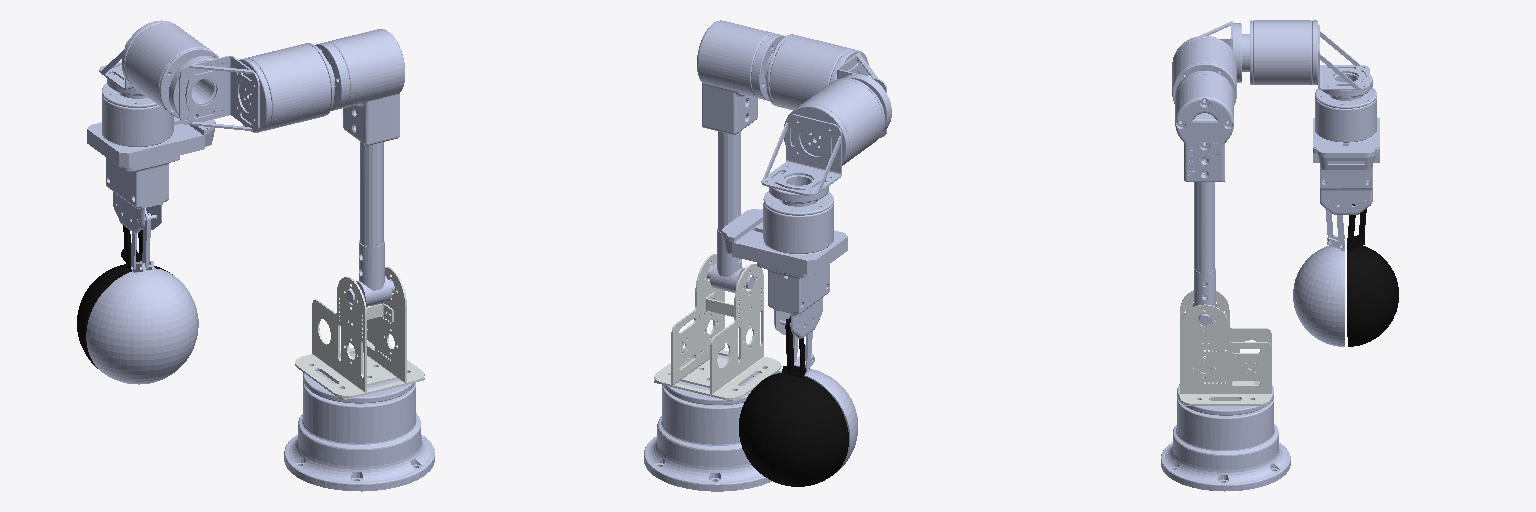
robot.urdf — sampling_rover_with_arm_urdf:
<?xml version="1.0" encoding="utf-8"?>
<!-- This URDF was automatically created by SolidWorks to URDF Exporter! Originally created by [author] ([email redacted]) 
     Commit Version: 1.6.0-4-g7f85cfe  Build Version: 1.6.7995.38578
     For more information, please see http://wiki.ros.org/sw_urdf_exporter -->
<robot
  name="sampling_rover_with_arm_urdf">
  <link name="world"/>
  <joint name="base_rover" type="fixed">
      <parent link="world"/>
      <child link="rover"/>
      <origin rpy="0 0 0" xyz="0.0 0.0 0.00001"/>
  </joint>
  <link
    name="rover">
    <inertial>
      <origin
        xyz="0.04233 -0.030066 0.22201"
        rpy="0 0 0" />
      <mass
        value="23.83" />
      <inertia
        ixx="0.13598"
        ixy="0.0004091"
        ixz="0.0022915"
        iyy="0.10672"
        iyz="-0.0028185"
        izz="0.14333" />
    </inertial>
    <visual>
      <origin
        xyz="0 0 0"
        rpy="0 0 0" />
      <geometry>
        <mesh
          filename="package://sampling_rover_with_arm_urdf/meshes/rover.STL" />
      </geometry>
      <material
        name="">
        <color
          rgba="0.79216 0.81961 0.93333 1" />
      </material>
    </visual>
    <collision>
      <origin
        xyz="0 0 0"
        rpy="0 0 0" />
      <geometry>
        <mesh
          filename="package://sampling_rover_with_arm_urdf/meshes/rover.STL" />
      </geometry>
    </collision>
  </link>
  <link
    name="base_arm">
    <inertial>
      <origin
        xyz="7.5146E-16 1.2768E-15 0.062877"
        rpy="0 0 0" />
      <mass
        value="2.1128" />
      <inertia
        ixx="0.0074591"
        ixy="-6.4985E-07"
        ixz="2.9585E-17"
        iyy="0.0074553"
        iyz="-7.5664E-18"
        izz="0.010214" />
    </inertial>
    <visual>
      <origin
        xyz="0 0 0"
        rpy="0 0 0" />
      <geometry>
        <mesh
          filename="package://sampling_rover_with_arm_urdf/meshes/base_arm.STL" />
      </geometry>
      <material
        name="">
        <color
          rgba="0.79216 0.81961 0.93333 1" />
      </material>
    </visual>
    <collision>
      <origin
        xyz="0 0 0"
        rpy="0 0 0" />
      <geometry>
        <mesh
          filename="package://sampling_rover_with_arm_urdf/meshes/base_arm.STL" />
      </geometry>
    </collision>
  </link>
  <joint
    name="base_joint"
    type="fixed">
    <origin
      xyz="-0.00070858 0.2487 0.409"
      rpy="0 0 0" />
    <parent
      link="rover" />
    <child
      link="base_arm" />
    <axis
      xyz="0 0 0" />
    <limit
      lower="0"
      upper="0"
      effort="0"
      velocity="0" />
  </joint>
  <link
    name="link_1">
    <inertial>
      <origin
        xyz="0.00064135 -0.0059228 0.051415"
        rpy="0 0 0" />
      <mass
        value="0.49072" />
      <inertia
        ixx="0.001755"
        ixy="3.1435E-07"
        ixz="-7.1879E-07"
        iyy="0.0010881"
        iyz="0.00019759"
        izz="0.001162" />
    </inertial>
    <visual>
      <origin
        xyz="0 0 0"
        rpy="0 0 0" />
      <geometry>
        <mesh
          filename="package://sampling_rover_with_arm_urdf/meshes/link_1.STL" />
      </geometry>
      <material
        name="">
        <color
          rgba="0.89804 0.91765 0.92941 1" />
      </material>
    </visual>
    <collision>
      <origin
        xyz="0 0 0"
        rpy="0 0 0" />
      <geometry>
        <mesh
          filename="package://sampling_rover_with_arm_urdf/meshes/link_1.STL" />
      </geometry>
    </collision>
  </link>
  <joint
    name="joint_1"
    type="revolute">
    <origin
      xyz="0 0 0.131"
      rpy="0 0 0" />
    <parent
      link="base_arm" />
    <child
      link="link_1" />
    <axis
      xyz="0 0 1" />
    <limit
      lower="-3.142"
      upper="3.142"
      effort="100"
      velocity="2" />
  </joint>
  <link
    name="link_2">
    <inertial>
      <origin
        xyz="-3.148E-06 0.2843 0.0099169"
        rpy="0 0 0" />
      <mass
        value="1.1101" />
      <inertia
        ixx="0.0026516"
        ixy="-1.2212E-07"
        ixz="-1.1353E-07"
        iyy="0.0012227"
        iyz="-0.00020306"
        izz="0.0025953" />
    </inertial>
    <visual>
      <origin
        xyz="0 0 0"
        rpy="0 0 0" />
      <geometry>
        <mesh
          filename="package://sampling_rover_with_arm_urdf/meshes/link_2.STL" />
      </geometry>
      <material
        name="">
        <color
          rgba="0.79216 0.81961 0.93333 1" />
      </material>
    </visual>
    <collision>
      <origin
        xyz="0 0 0"
        rpy="0 0 0" />
      <geometry>
        <mesh
          filename="package://sampling_rover_with_arm_urdf/meshes/link_2.STL" />
      </geometry>
    </collision>
  </link>
  <joint
    name="joint_2"
    type="revolute">
    <origin
      xyz="0 -0.0355 0.1519"
      rpy="1.5708 0 -1.5708" />
    <parent
      link="link_1" />
    <child
      link="link_2" />
    <axis
      xyz="0 0 1" />
    <limit
      lower="-3.142"
      upper="3.142"
      effort="100"
      velocity="2" />
  </joint>
  <link
    name="link_3">
    <inertial>
      <origin
        xyz="2.2204E-16 0.0011125 -0.0037525"
        rpy="0 0 0" />
      <mass
        value="0.83444" />
      <inertia
        ixx="0.0013519"
        ixy="9.0993E-07"
        ixz="9.3162E-20"
        iyy="0.0013665"
        iyz="-1.2183E-05"
        izz="0.0015146" />
    </inertial>
    <visual>
      <origin
        xyz="0 0 0"
        rpy="0 0 0" />
      <geometry>
        <mesh
          filename="package://sampling_rover_with_arm_urdf/meshes/link_3.STL" />
      </geometry>
      <material
        name="">
        <color
          rgba="0.79216 0.81961 0.93333 1" />
      </material>
    </visual>
    <collision>
      <origin
        xyz="0 0 0"
        rpy="0 0 0" />
      <geometry>
        <mesh
          filename="package://sampling_rover_with_arm_urdf/meshes/link_3.STL" />
      </geometry>
    </collision>
  </link>
  <joint
    name="joint_3"
    type="revolute">
    <origin
      xyz="0 0.363 0.149"
      rpy="0 0 1.5708" />
    <parent
      link="link_2" />
    <child
      link="link_3" />
    <axis
      xyz="0 0 -1" />
    <limit
      lower="-3.142"
      upper="3.142"
      effort="50"
      velocity="4" />
  </joint>
  <link
    name="link_4">
    <inertial>
      <origin
        xyz="-0.0011125 -1.0547E-15 -0.0037525"
        rpy="0 0 0" />
      <mass
        value="0.83444" />
      <inertia
        ixx="0.0013665"
        ixy="-9.0993E-07"
        ixz="1.2183E-05"
        iyy="0.0013519"
        iyz="1.3053E-20"
        izz="0.0015146" />
    </inertial>
    <visual>
      <origin
        xyz="0 0 0"
        rpy="0 0 0" />
      <geometry>
        <mesh
          filename="package://sampling_rover_with_arm_urdf/meshes/link_4.STL" />
      </geometry>
      <material
        name="">
        <color
          rgba="0.79216 0.81961 0.93333 1" />
      </material>
    </visual>
    <collision>
      <origin
        xyz="0 0 0"
        rpy="0 0 0" />
      <geometry>
        <mesh
          filename="package://sampling_rover_with_arm_urdf/meshes/link_4.STL" />
      </geometry>
    </collision>
  </link>
  <joint
    name="joint_4"
    type="revolute">
    <origin
      xyz="0 0.13161 0.10761"
      rpy="-1.5708 0 0" />
    <parent
      link="link_3" />
    <child
      link="link_4" />
    <axis
      xyz="0 0 -1" />
    <limit
      lower="-3.142"
      upper="3.142"
      effort="50"
      velocity="4" />
  </joint>
  <link
    name="link_5">
    <inertial>
      <origin
        xyz="0.0056805 -0.00015103 -0.30906"
        rpy="0 0 0" />
      <mass
        value="1.0858" />
      <inertia
        ixx="0.001469"
        ixy="-1.5038E-06"
        ixz="7.5505E-06"
        iyy="0.0014597"
        iyz="-1.0158E-06"
        izz="0.002048" />
    </inertial>
    <visual>
      <origin
        xyz="0 0 0"
        rpy="0 0 0" />
      <geometry>
        <mesh
          filename="package://sampling_rover_with_arm_urdf/meshes/link_5.STL" />
      </geometry>
      <material
        name="">
        <color
          rgba="0.79216 0.81961 0.93333 1" />
      </material>
    </visual>
    <collision>
      <origin
        xyz="0 0 0"
        rpy="0 0 0" />
      <geometry>
        <mesh
          filename="package://sampling_rover_with_arm_urdf/meshes/link_5.STL" />
      </geometry>
    </collision>
  </link>
  <joint
    name="joint_5"
    type="revolute">
    <origin
      xyz="-0.45203 0 0.10768"
      rpy="-1.5708 0 1.5708" />
    <parent
      link="link_4" />
    <child
      link="link_5" />
    <axis
      xyz="0 0 -1" />
    <limit
      lower="-3.142"
      upper="3.142"
      effort="50"
      velocity="4" />
  </joint>
  <link
    name="Right_ee">
    <inertial>
      <origin
        xyz="0.011076 -0.16984 -0.00036022"
        rpy="0 0 0" />
      <mass
        value="0.15605" />
      <inertia
        ixx="0.0007532"
        ixy="1.5845E-05"
        ixz="-1.1744E-13"
        iyy="0.00044526"
        iyz="-2.7993E-13"
        izz="0.0004941" />
    </inertial>
    <visual>
      <origin
        xyz="0 0 0"
        rpy="0 0 0" />
      <geometry>
        <mesh
          filename="package://sampling_rover_with_arm_urdf/meshes/Right_ee.STL" />
      </geometry>
      <material
        name="">
        <color
          rgba="0.79216 0.81961 0.93333 1" />
      </material>
    </visual>
    <collision>
      <origin
        xyz="0 0 0"
        rpy="0 0 0" />
      <geometry>
        <mesh
          filename="package://sampling_rover_with_arm_urdf/meshes/Right_ee.STL" />
      </geometry>
    </collision>
  </link>
  <joint
    name="joint_ree"
    type="revolute">
    <origin
      xyz="0 0.03156 -0.18278"
      rpy="-1.5708 0 1.5708" />
    <parent
      link="link_5" />
    <child
      link="Right_ee" />
    <axis
      xyz="0 0 1" />
    <limit
      lower="0"
      upper="0.8"
      effort="15"
      velocity="0" />
  </joint>
  <link
    name="Left_ee">
    <inertial>
      <origin
        xyz="-0.011076 -0.16984 -0.00041022"
        rpy="0 0 0" />
      <mass
        value="0.15605" />
      <inertia
        ixx="0.0007532"
        ixy="-1.5845E-05"
        ixz="-1.1743E-13"
        iyy="0.00044526"
        iyz="2.7992E-13"
        izz="0.0004941" />
    </inertial>
    <visual>
      <origin
        xyz="0 0 0"
        rpy="0 0 0" />
      <geometry>
        <mesh
          filename="package://sampling_rover_with_arm_urdf/meshes/Left_ee.STL" />
      </geometry>
      <material
        name="">
        <color
          rgba="0.1098 0.1098 0.1098 1" />
      </material>
    </visual>
    <collision>
      <origin
        xyz="0 0 0"
        rpy="0 0 0" />
      <geometry>
        <mesh
          filename="package://sampling_rover_with_arm_urdf/meshes/Left_ee.STL" />
      </geometry>
    </collision>
  </link>
  <joint
    name="joint_lee"
    type="revolute">
    <origin
      xyz="0 -0.031415 -0.18278"
      rpy="-1.5708 0 1.5708" />
    <parent
      link="link_5" />
    <child
      link="Left_ee" />
    <axis
      xyz="0 0 1" />
    <limit
      lower="-0.8"
      upper="0"
      effort="15"
      velocity="6" />
    <mimic joint="joint_ree" multiplier="-1.0" offset="0.0"/>  
  </joint>
  

  <transmission name="link_1_trans">
        <type>transmission_interface/SimpleTransmission</type>
        <joint name="joint_1">
              <hardwareInterface>hardware_interface/PositionJointInterface</hardwareInterface> 
        </joint>
        <actuator name="link_1_motor">
              <hardwareInterface>hardware_interface/PositionJointInterface</hardwareInterface> 
              <mechanicalReduction>1</mechanicalReduction>
        </actuator>
  </transmission>

  <transmission name="link_2_trans">
        <type>transmission_interface/SimpleTransmission</type>
        <joint name="joint_2">
              <hardwareInterface>hardware_interface/PositionJointInterface</hardwareInterface> 
        </joint>
        <actuator name="link_2_motor">
              <hardwareInterface>hardware_interface/PositionJointInterface</hardwareInterface> 
              <mechanicalReduction>1</mechanicalReduction>
        </actuator>
  </transmission>

  <transmission name="link_3_trans">
        <type>transmission_interface/SimpleTransmission</type>
        <joint name="joint_3">
              <hardwareInterface>hardware_interface/PositionJointInterface</hardwareInterface> 
        </joint>
        <actuator name="link_3_motor">
              <hardwareInterface>hardware_interface/PositionJointInterface</hardwareInterface> 
              <mechanicalReduction>1</mechanicalReduction>
        </actuator>
  </transmission>

  <transmission name="link_4_trans">
        <type>transmission_interface/SimpleTransmission</type>
        <joint name="joint_4">
              <hardwareInterface>hardware_interface/PositionJointInterface</hardwareInterface> 
        </joint>
        <actuator name="link_4_motor">
              <hardwareInterface>hardware_interface/PositionJointInterface</hardwareInterface> 
              <mechanicalReduction>1</mechanicalReduction>
        </actuator>
  </transmission>

  <transmission name="link_5_trans">
        <type>transmission_interface/SimpleTransmission</type>
        <joint name="joint_5">
              <hardwareInterface>hardware_interface/PositionJointInterface</hardwareInterface> 
        </joint>
        <actuator name="link_5_motor">
              <hardwareInterface>hardware_interface/PositionJointInterface</hardwareInterface> 
              <mechanicalReduction>1</mechanicalReduction>
        </actuator>
  </transmission>

  <transmission name="Right_ee_trans">
        <type>transmission_interface/SimpleTransmission</type>
        <joint name="joint_ree">
              <hardwareInterface>hardware_interface/PositionJointInterface</hardwareInterface> 
        </joint>
        <actuator name="Right_ee_motor">
              <hardwareInterface>hardware_interface/PositionJointInterface</hardwareInterface> 
              <mechanicalReduction>1</mechanicalReduction>
        </actuator>
  </transmission>
   

  <gazebo>
      <plugin name="control" filename="libgazebo_ros_control.so">
          <robotNamespace>/</robotNamespace>
      </plugin>
  </gazebo>

  <gazebo reference="rover">
      <selfCollide>true</selfCollide>
  </gazebo>

  <gazebo reference="base_arm">
      <selfCollide>true</selfCollide>
  </gazebo>

  <gazebo reference="link_1">
      <selfCollide>true</selfCollide>
  </gazebo>

  <gazebo reference="link_2">
      <selfCollide>true</selfCollide>
  </gazebo>

  <gazebo reference="link_3">
      <selfCollide>true</selfCollide>
  </gazebo>

  <gazebo reference="link_4">
      <selfCollide>true</selfCollide>
  </gazebo>

  <gazebo reference="link_5">
      <selfCollide>true</selfCollide>
  </gazebo>

  <gazebo reference="Right_ee">
      <selfCollide>true</selfCollide>
  </gazebo>
  
  <gazebo reference="Left_ee">
      <selfCollide>true</selfCollide>
  </gazebo>

<!--  
  <gazebo>
    <plugin name="gazebo_grasp_fix" filename="libgazebo_grasp_fix.so">
      <arm>
        <arm_name>/</arm_name>
        <palm_link>link_5</palm_link>
        <gripper_link>Right_ee</gripper_link>
        <gripper_link>Left_ee</gripper_link>
      </arm>
      <forces_angle_tolerance>90</forces_angle_tolerance>
      <update_rate>10</update_rate>
      <grip_count_threshold>3</grip_count_threshold>
      <max_grip_count>10</max_grip_count>
      <release_tolerance>0.004</release_tolerance>
      <disable_collisions_on_attach>true</disable_collisions_on_attach>
      <contact_topic>__default_topic__</contact_topic>
    </plugin> 
  </gazebo>
  -->

</robot>

--- What the picture shows (computed from the rendered views, not written in the file) ---
Views: 3 orthographic renders of the robot side by side, from view 1: azimuth 30°, elevation 25°; view 2: azimuth 150°, elevation 25°; view 3: azimuth 270°, elevation 25°.
Robot: sampling_rover_with_arm_urdf — 10 links, 9 joints (7 revolute, 2 fixed); root link world; default pose: all joints at 0.
Links seen in each view (by area): view 1: base_arm, link_3, Right_ee, link_2, link_5, link_1, link_4, Left_ee; view 2: link_5, Left_ee, link_1, link_2, base_arm, link_4, link_3, Right_ee; view 3: base_arm, link_1, link_2, link_5, link_4, Left_ee, Right_ee, link_3.
Link boxes in pixels (left/top/right/bottom): base_arm: left=284, top=353, right=434, bottom=491; link_3: left=179, top=42, right=349, bottom=132; Right_ee: left=86, top=208, right=198, bottom=384; link_2: left=328, top=29, right=404, bottom=306; link_5: left=87, top=65, right=215, bottom=233; link_1: left=295, top=267, right=424, bottom=399; link_4: left=99, top=20, right=221, bottom=121; Left_ee: left=77, top=225, right=172, bottom=368; link_5: left=722, top=172, right=847, bottom=338; Left_ee: left=739, top=316, right=848, bottom=486; link_1: left=654, top=254, right=781, bottom=401; link_2: left=697, top=20, right=772, bottom=292; base_arm: left=644, top=354, right=771, bottom=491; link_4: left=761, top=74, right=891, bottom=195; link_3: left=751, top=33, right=886, bottom=137; Right_ee: left=768, top=331, right=857, bottom=472; base_arm: left=1161, top=381, right=1290, bottom=491; link_1: left=1180, top=290, right=1271, bottom=405; link_2: left=1175, top=74, right=1233, bottom=325; link_5: left=1313, top=68, right=1379, bottom=214; link_4: left=1233, top=20, right=1369, bottom=89; Left_ee: left=1347, top=204, right=1398, bottom=346; Right_ee: left=1293, top=204, right=1344, bottom=346; link_3: left=1172, top=21, right=1236, bottom=104.
Bounding box of the posed robot: 0.4541 × 0.4036 × 0.7029 m (x, y, z).
Meshes: 9 distinct files referenced, 8 mesh visuals loaded (8 binary STL); not drawn: 1 (reference not matched to a file when rendering).
